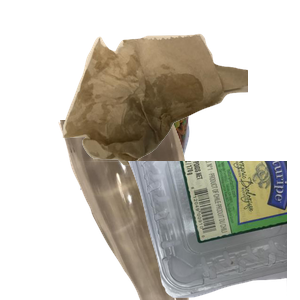glass: (56, 120, 241, 300)
metal: (78, 63, 266, 243)
plastic: (60, 161, 300, 300)
trash: (60, 31, 300, 189)
